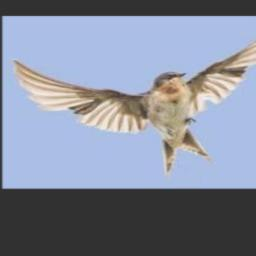Swallow: (11, 22, 256, 179)
